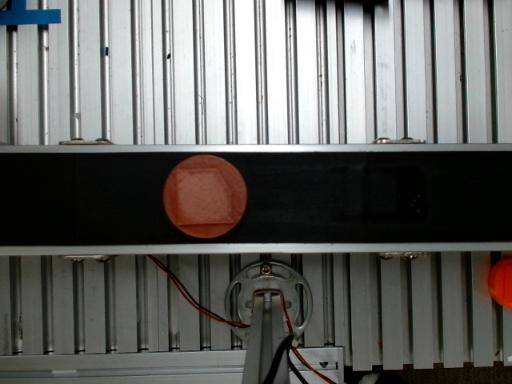Brown_Waper: (163, 155, 247, 238)
Not_Square: (175, 166, 233, 225)
